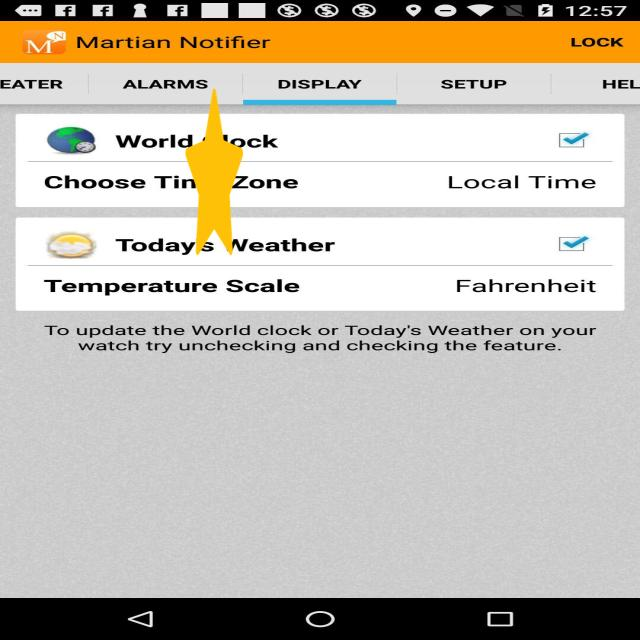forced continuity: (185, 88, 243, 255)
